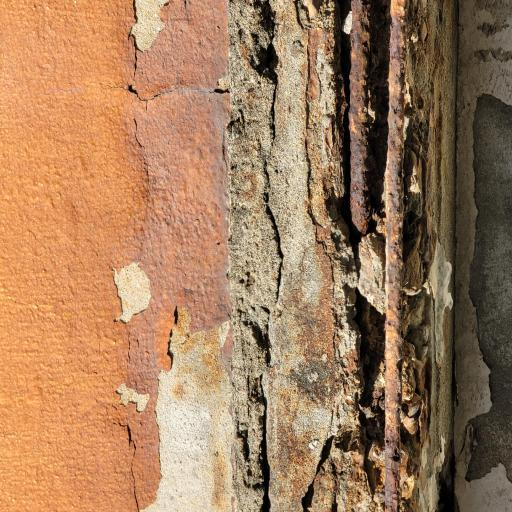exposed_rebar: (385, 0, 407, 512), (349, 0, 371, 235)
spalling: (229, 0, 455, 512)
